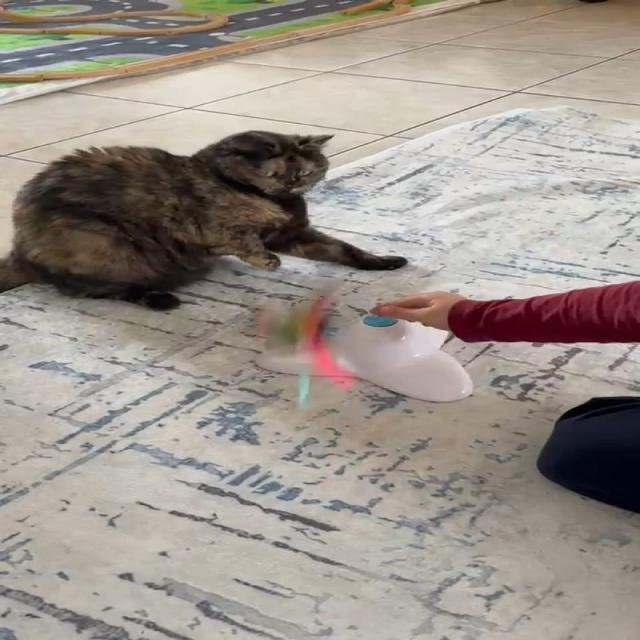authorized: (0, 129, 408, 311)
